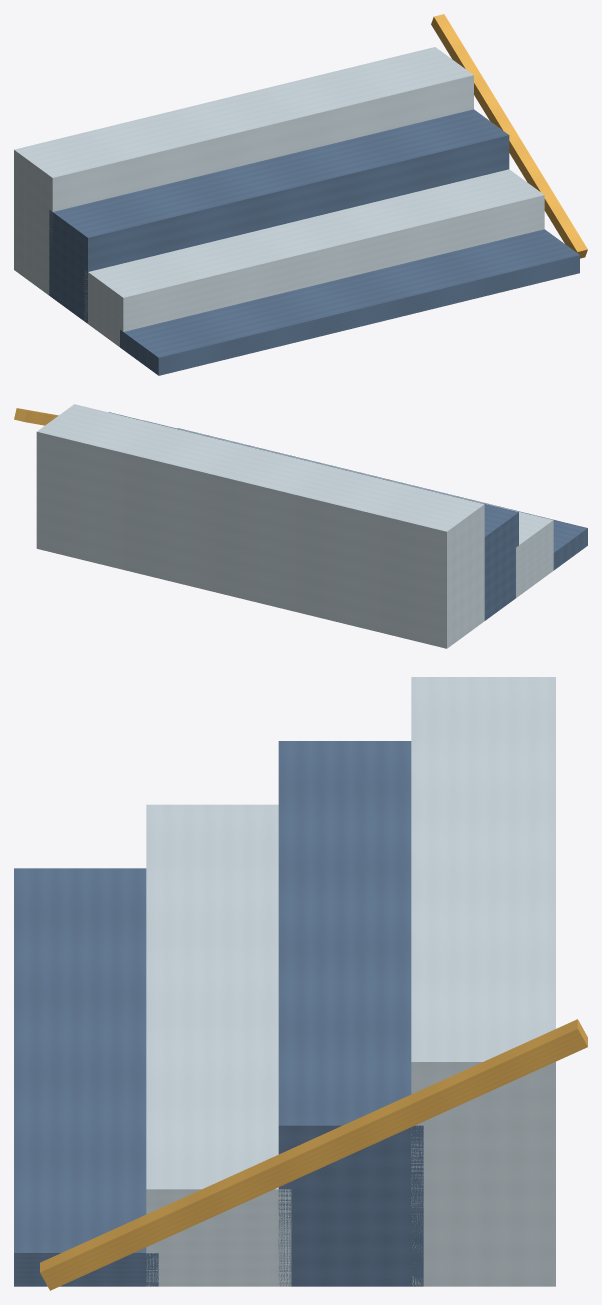
Rendered from atlas100-s051-a10.lod1.glb.
The picture shows the model from 3 angles, top to bottom: view 1: azimuth 30°, elevation 25°; view 2: azimuth 150°, elevation 25°; view 3: azimuth 270°, elevation 25°; orthographic projection. The views are drawn at different scales.
Visible parts, largest first — view 1: atlas100-s051-a10:part-003, atlas100-s051-a10:part-002, atlas100-s051-a10:part-001, atlas100-s051-a10:part-000, atlas100-s051-a10:part-005; view 2: atlas100-s051-a10:part-003, atlas100-s051-a10:part-002, atlas100-s051-a10:part-001, atlas100-s051-a10:part-000, atlas100-s051-a10:part-005; view 3: atlas100-s051-a10:part-003, atlas100-s051-a10:part-002, atlas100-s051-a10:part-001, atlas100-s051-a10:part-000, atlas100-s051-a10:part-005.
Boxes of the visible parts, <box> form: atlas100-s051-a10:part-003: <box>14,47,473,295</box>; atlas100-s051-a10:part-002: <box>49,109,509,323</box>; atlas100-s051-a10:part-001: <box>84,169,544,346</box>; atlas100-s051-a10:part-000: <box>120,229,579,375</box>; atlas100-s051-a10:part-005: <box>431,14,587,258</box>; atlas100-s051-a10:part-003: <box>36,404,484,648</box>; atlas100-s051-a10:part-002: <box>108,412,518,620</box>; atlas100-s051-a10:part-001: <box>143,420,553,597</box>; atlas100-s051-a10:part-000: <box>178,428,587,570</box>; atlas100-s051-a10:part-005: <box>14,408,58,425</box>; atlas100-s051-a10:part-003: <box>411,677,555,1286</box>; atlas100-s051-a10:part-002: <box>278,741,423,1286</box>; atlas100-s051-a10:part-001: <box>146,804,291,1286</box>; atlas100-s051-a10:part-000: <box>14,868,158,1286</box>; atlas100-s051-a10:part-005: <box>40,1019,587,1290</box>.
Bounding box in the file's own units: 2.28 × 0.7246 × 1.39.
Materials: 3 (3 with a texture image).
